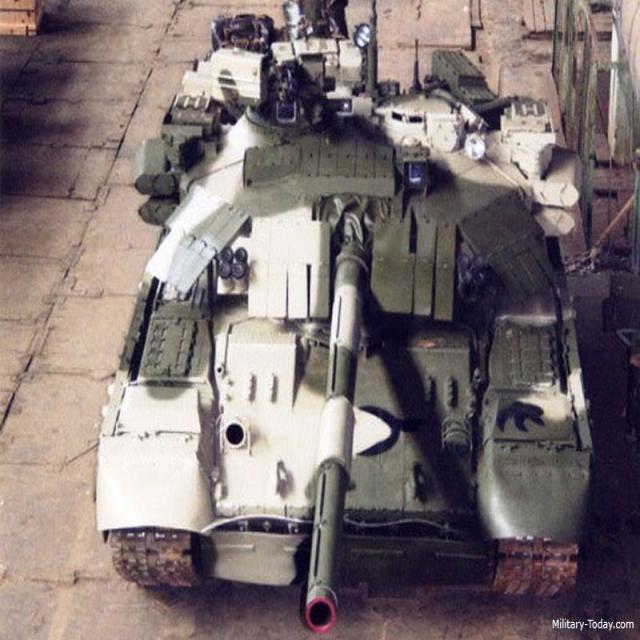Tank: (143, 25, 583, 607)
